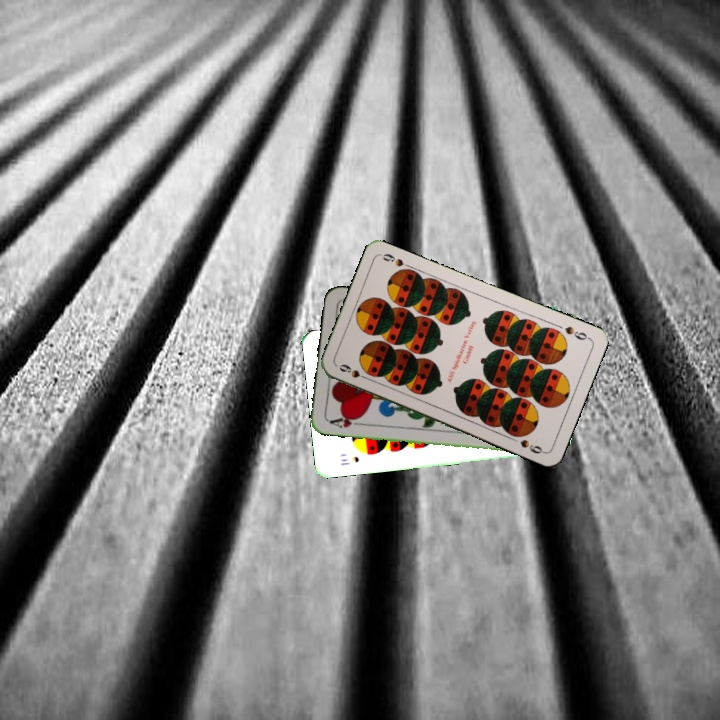HA: (325, 412, 365, 431)
S10: (337, 452, 361, 468)
S9: (335, 360, 373, 383), (561, 322, 592, 343)
